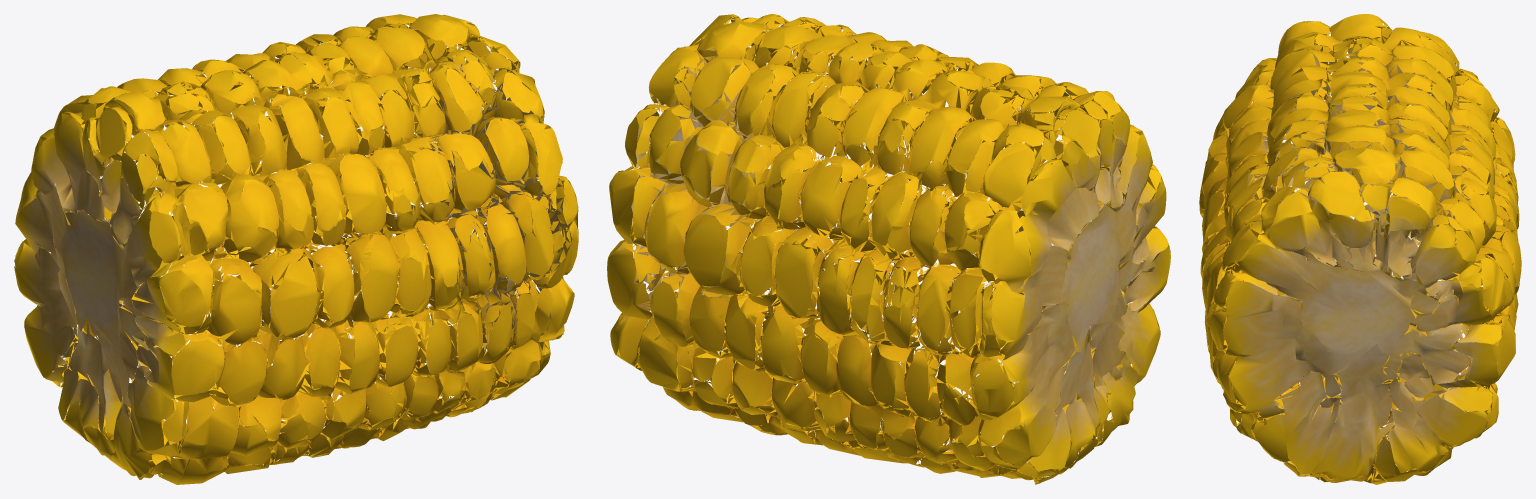
File: corn_cob.glb
3 renders of one model, left to right at view 1: azimuth 30°, elevation 25°; view 2: azimuth 150°, elevation 25°; view 3: azimuth 270°, elevation 25°, orthographic. The views are drawn at different scales.
Visible parts, largest first — view 1: corn_cob; view 2: corn_cob; view 3: corn_cob.
Part boxes in pixels (x1=…): corn_cob: x1=14, y1=14, x2=578, y2=484; corn_cob: x1=607, y1=14, x2=1170, y2=484; corn_cob: x1=1199, y1=14, x2=1521, y2=484.
Size of the model in its own units: 1 by 0.8796 by 0.755.
1 material, 1 textured.
